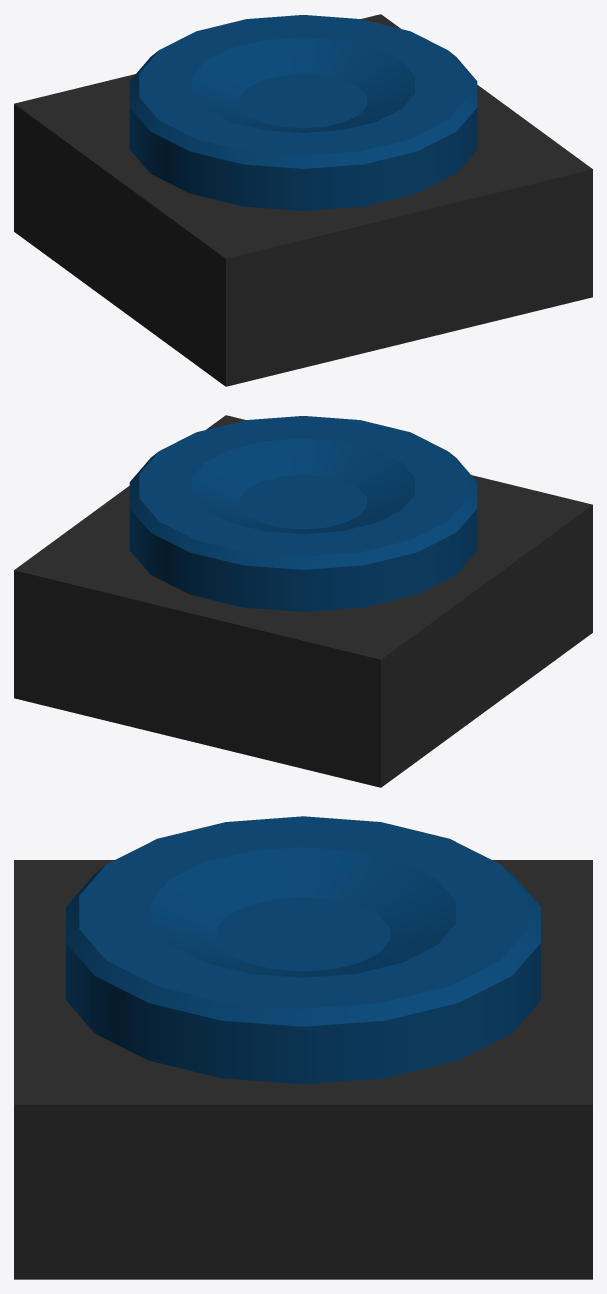
File: button.FBX
The picture shows the model from 3 angles, top to bottom: view 1: azimuth 30°, elevation 25°; view 2: azimuth 150°, elevation 25°; view 3: azimuth 270°, elevation 25°; orthographic projection. The views are drawn at different scales.
Parts seen in each view (by area): view 1: Box001, Object001; view 2: Box001, Object001; view 3: Box001, Object001.
Boxes of the visible parts, left/top/right/bottom form: Box001: left=14, top=14, right=592, bottom=386; Object001: left=129, top=15, right=477, bottom=210; Box001: left=14, top=415, right=592, bottom=787; Object001: left=129, top=416, right=477, bottom=611; Box001: left=14, top=860, right=592, bottom=1279; Object001: left=66, top=816, right=540, bottom=1084.
Bounding box in the file's own units: 118 × 55.12 × 118.
